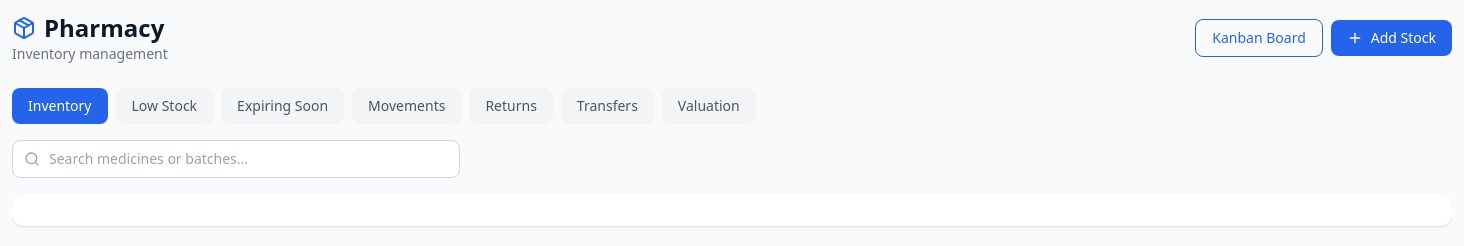
PharmacyPage (inventory dashboard — full surface) › Movements tab — renders 'No movements.' when empty
Click the button "Movements" at (407, 106), box x1=352 y1=88 x2=461 y2=124
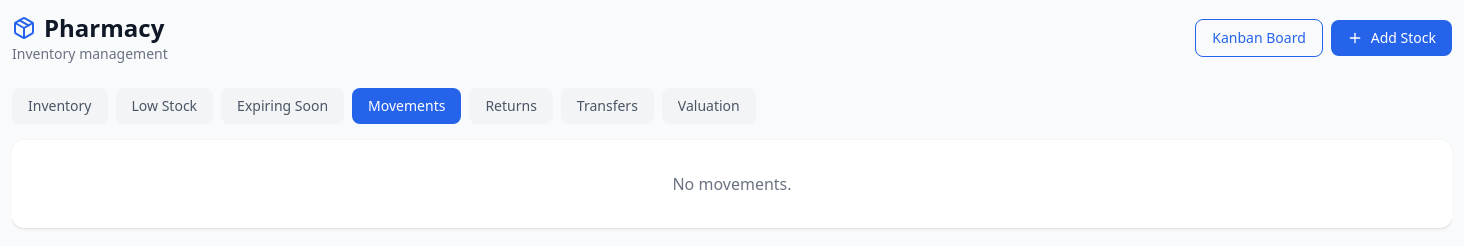
Expected: the text "No movements." is shown, x1=672 y1=173 x2=792 y2=195
